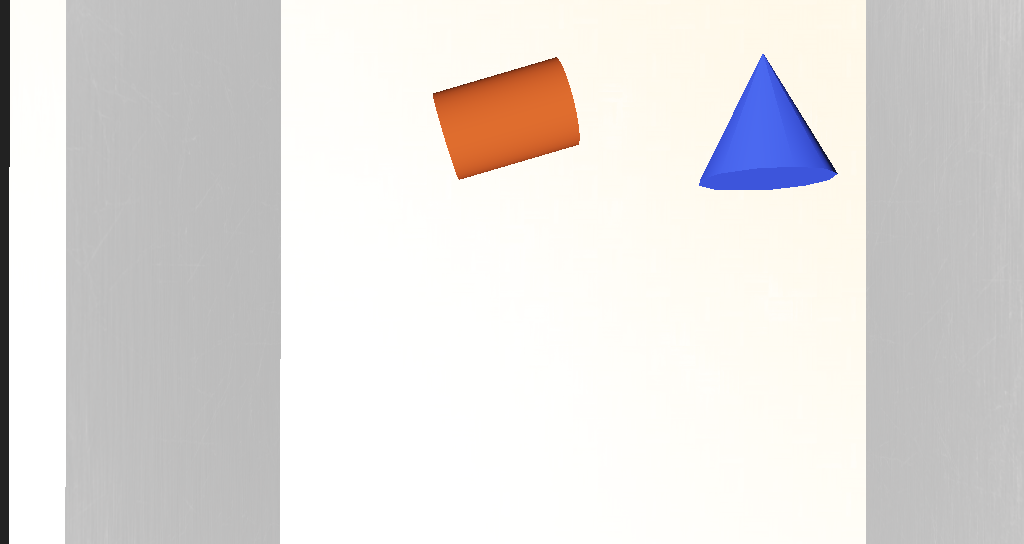cone: (435, 193, 509, 236)
cylinder: (566, 188, 633, 241)
sphere: (684, 191, 771, 248)
